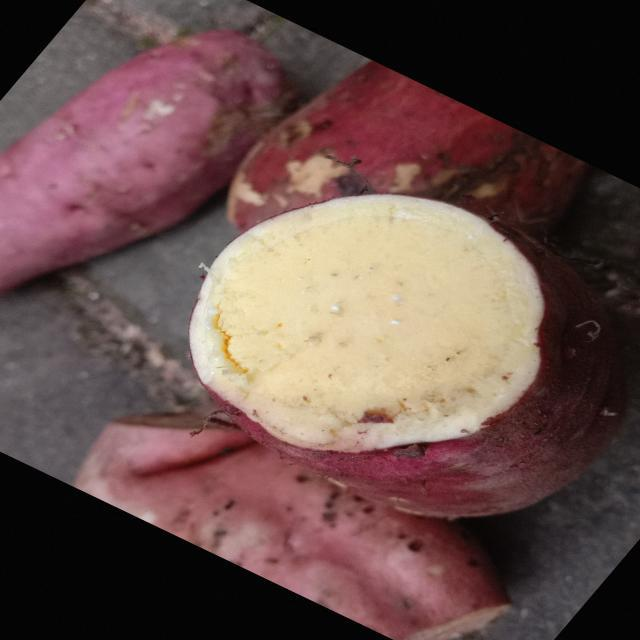Healthy Sweet Potato: (190, 195, 543, 452)
